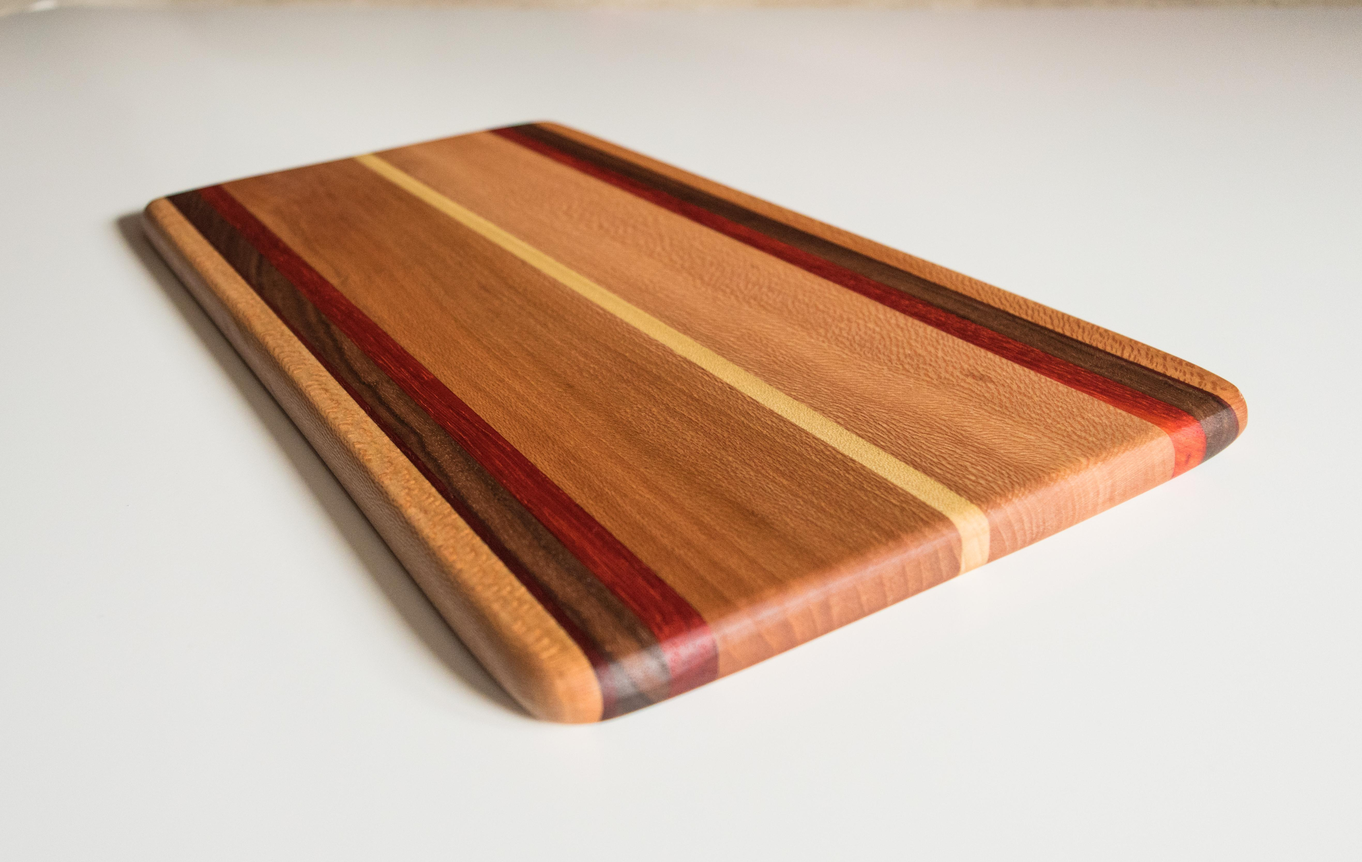gloved_hand: (122, 104, 1260, 735)
